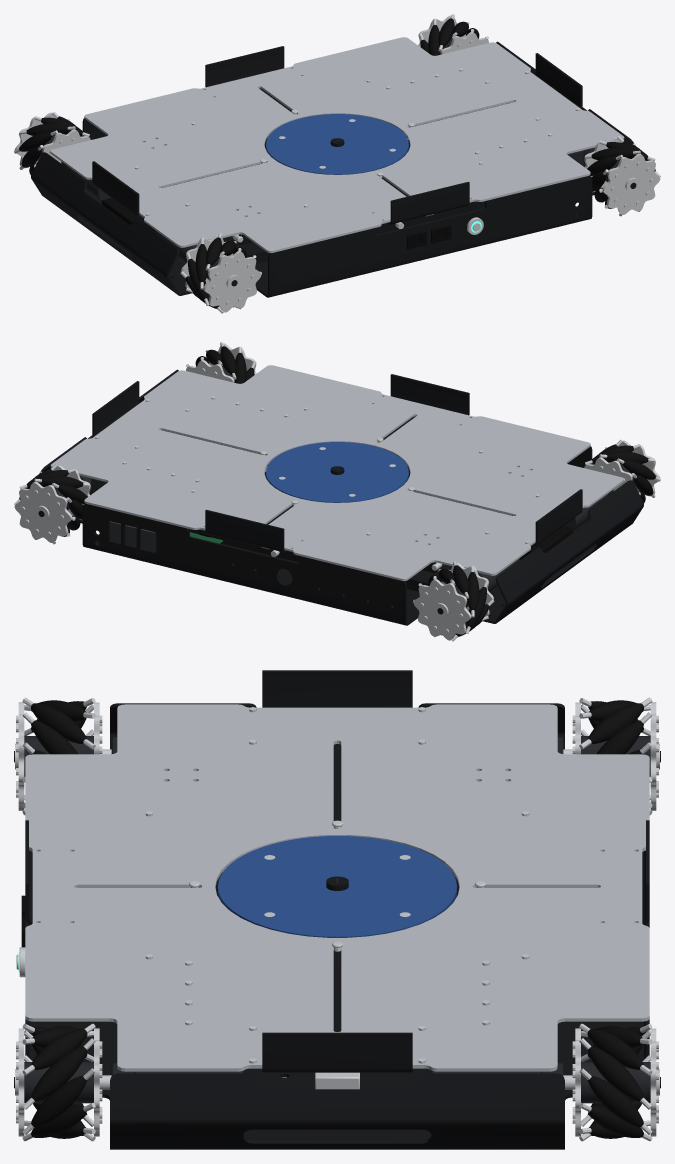
File: robot.glb
3 renders of one model, top to bottom at view 1: azimuth 30°, elevation 25°; view 2: azimuth 150°, elevation 25°; view 3: azimuth 270°, elevation 25°, orthographic. The views are drawn at different scales.
Visible parts, largest first — view 1: Plate, Tray, HubDisc, Wheel_RR_mesh, Wheel_FR_mesh, Wheel_RL_mesh, Gripper_YN, Gripper_YP, Wheel_FL_mesh, Gripper_XN, Gripper_XP, Drive (+2 smaller); view 2: Plate, Tray, HubDisc, Wheel_RL_mesh, Wheel_FL_mesh, Wheel_RR_mesh, Gripper_YP, Gripper_YN, Wheel_FR_mesh, Drive, Gripper_XN, Gripper_XP (+1 smaller); view 3: Plate, Tray, HubDisc, Wheel_FL_mesh, Wheel_FR_mesh, Gripper_XP, Gripper_XN, Wheel_RL_mesh, Wheel_RR_mesh, Drive, PlateScrews.
Boxes of the visible parts, <box> form: Plate: <box>50,37,624,252</box>; Tray: <box>31,41,635,297</box>; HubDisc: <box>266,114,408,174</box>; Wheel_RR_mesh: <box>180,233,261,313</box>; Wheel_FR_mesh: <box>584,136,660,216</box>; Wheel_RL_mesh: <box>14,112,90,174</box>; Gripper_YN: <box>381,177,469,224</box>; Gripper_YP: <box>205,46,291,111</box>; Wheel_FL_mesh: <box>418,14,488,55</box>; Gripper_XN: <box>92,161,260,217</box>; Gripper_XP: <box>407,53,582,137</box>; Drive: <box>61,147,595,263</box>; Plate: <box>50,365,624,580</box>; Tray: <box>39,369,643,625</box>; HubDisc: <box>266,442,408,502</box>; Wheel_RL_mesh: <box>413,561,494,641</box>; Wheel_FL_mesh: <box>14,464,90,544</box>; Wheel_RR_mesh: <box>584,440,660,502</box>; Gripper_YP: <box>205,505,293,552</box>; Gripper_YN: <box>383,374,469,439</box>; Wheel_FR_mesh: <box>186,342,256,383</box>; Drive: <box>79,475,613,591</box>; Gripper_XN: <box>414,489,582,545</box>; Gripper_XP: <box>92,381,267,465</box>; Plate: <box>25,704,649,1071</box>; Tray: <box>25,703,649,1149</box>; HubDisc: <box>218,836,456,937</box>; Wheel_FL_mesh: <box>572,1023,660,1141</box>; Wheel_FR_mesh: <box>14,1023,102,1141</box>; Gripper_XP: <box>262,950,412,1072</box>; Gripper_XN: <box>262,670,412,820</box>; Wheel_RL_mesh: <box>572,697,660,815</box>; Wheel_RR_mesh: <box>14,697,102,815</box>; Drive: <box>99,737,575,1089</box>; PlateScrews: <box>145,707,529,1063</box>.
Size of the model in its own units: 0.4906 by 0.0697 by 0.344.
